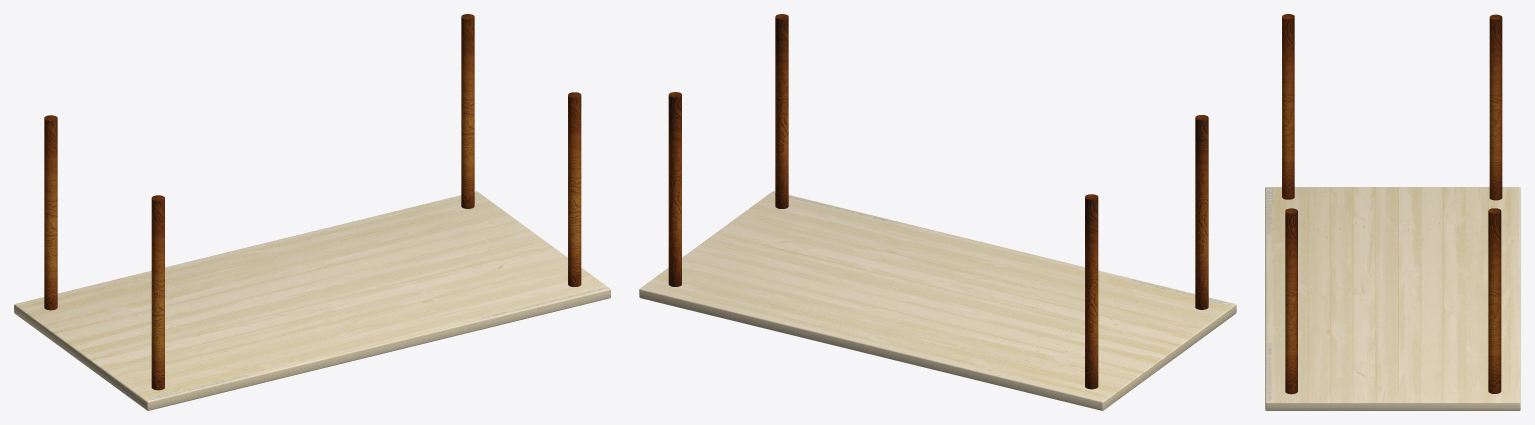
The model's file is bigtable.FBX.
3 views of the same model, side by side, from view 1: azimuth 30°, elevation 25°; view 2: azimuth 150°, elevation 25°; view 3: azimuth 270°, elevation 25° (orthographic). The views are drawn at different scales.
Visible parts, largest first — view 1: ChamferBox001, Cylinder003, Cylinder001, Cylinder004, Cylinder002; view 2: ChamferBox001, Cylinder003, Cylinder001, Cylinder002, Cylinder004; view 3: ChamferBox001, Cylinder003, Cylinder004, Cylinder001, Cylinder002.
Part boxes in pixels (box(x1,y1,x2,y2)): ChamferBox001: box(14, 191, 610, 410); Cylinder003: box(44, 115, 57, 310); Cylinder001: box(151, 195, 164, 390); Cylinder004: box(461, 14, 474, 208); Cylinder002: box(568, 92, 581, 286); ChamferBox001: box(639, 191, 1236, 410); Cylinder003: box(1085, 194, 1098, 389); Cylinder001: box(1195, 115, 1208, 309); Cylinder002: box(775, 14, 788, 208); Cylinder004: box(668, 92, 681, 286); ChamferBox001: box(1265, 187, 1520, 410); Cylinder003: box(1489, 14, 1502, 200); Cylinder004: box(1488, 208, 1501, 393); Cylinder001: box(1282, 14, 1294, 199); Cylinder002: box(1285, 208, 1297, 394).
Bounding box in the file's own units: 2000 × 821 × 1000.
2 materials, 2 textured.
